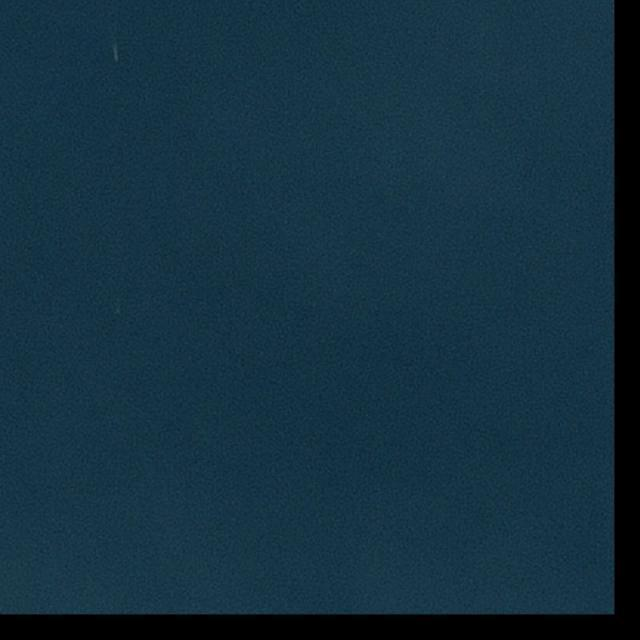ship: (113, 56, 121, 64)
